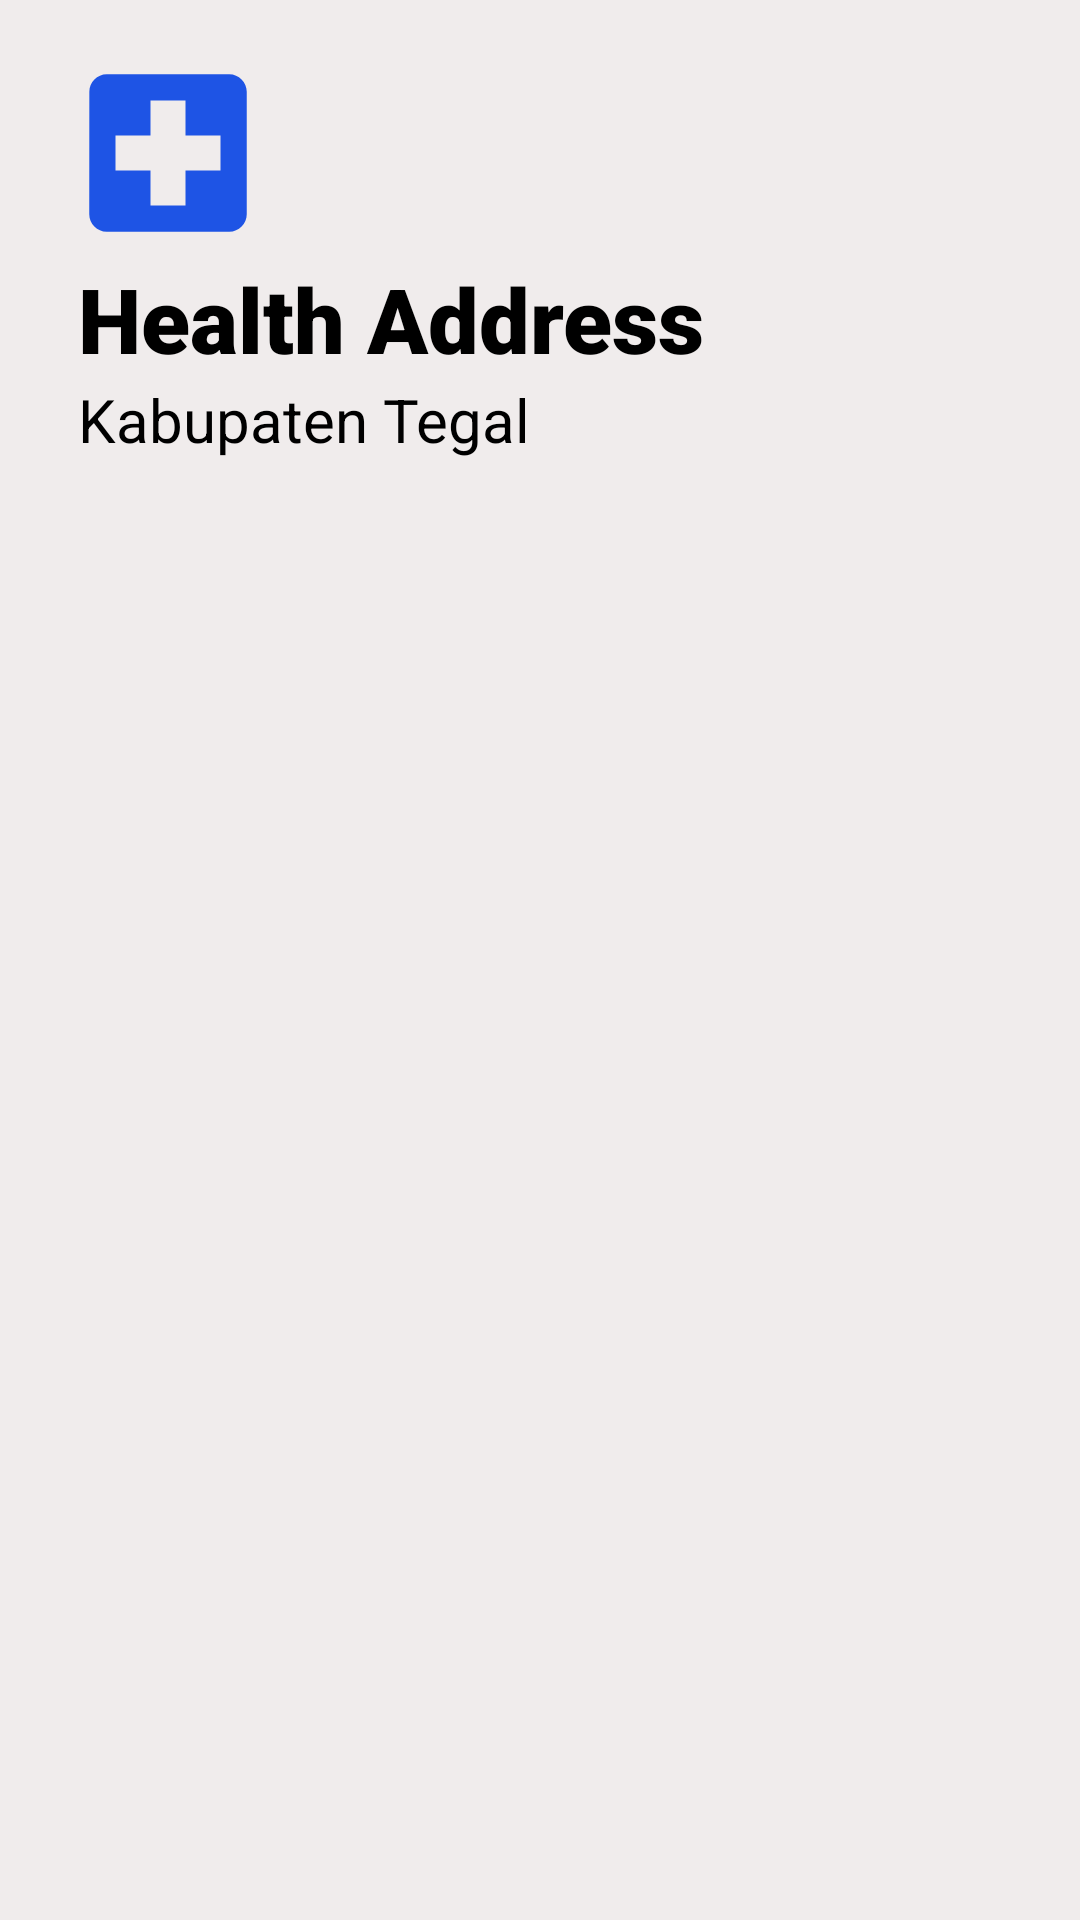

Screen size 1080w x 1920h. Icon name, then its center in pixels as [x,y]:
palang: [168,153]
